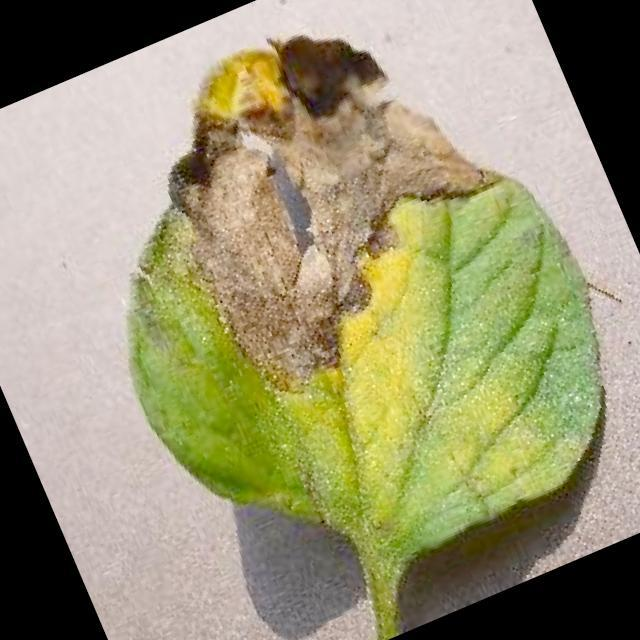Tomato late blight leaf: (30, 0, 640, 640)
